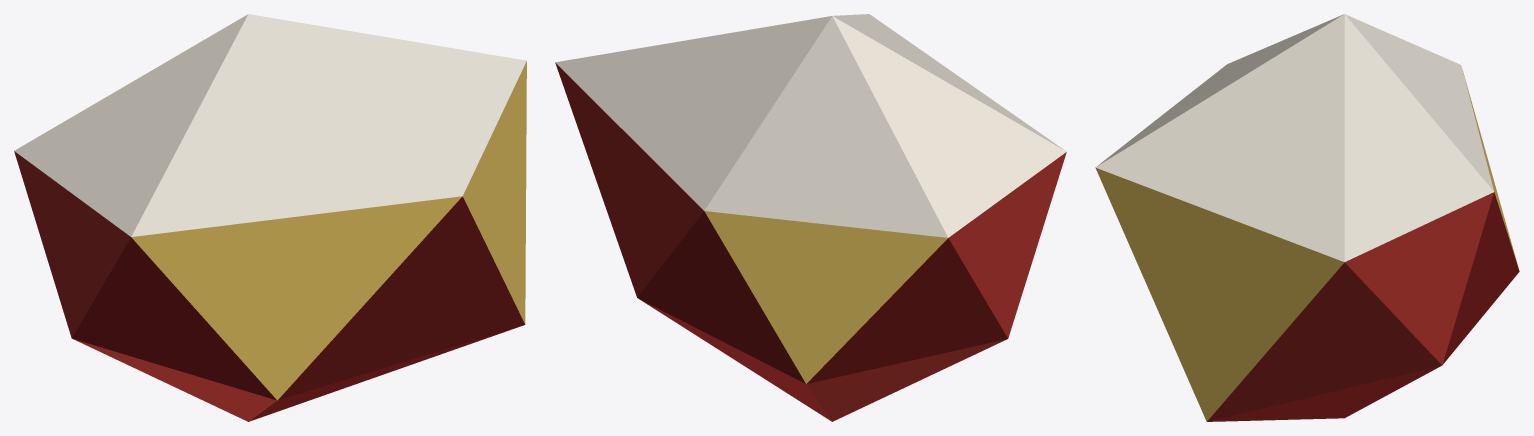
The model's file is flesh_chunk_3.glb.
The picture shows the model from 3 angles, left to right: view 1: azimuth 30°, elevation 25°; view 2: azimuth 150°, elevation 25°; view 3: azimuth 270°, elevation 25°; orthographic projection.
Parts seen in each view (by area): view 1: flesh_chunk_3; view 2: flesh_chunk_3; view 3: flesh_chunk_3.
Part boxes in pixels (box(x1,y1,x2,y2)): flesh_chunk_3: box(14, 14, 526, 421); flesh_chunk_3: box(555, 14, 1066, 421); flesh_chunk_3: box(1095, 14, 1519, 421).
Bounding box in the file's own units: 0.011 × 0.00939 × 0.00894.
